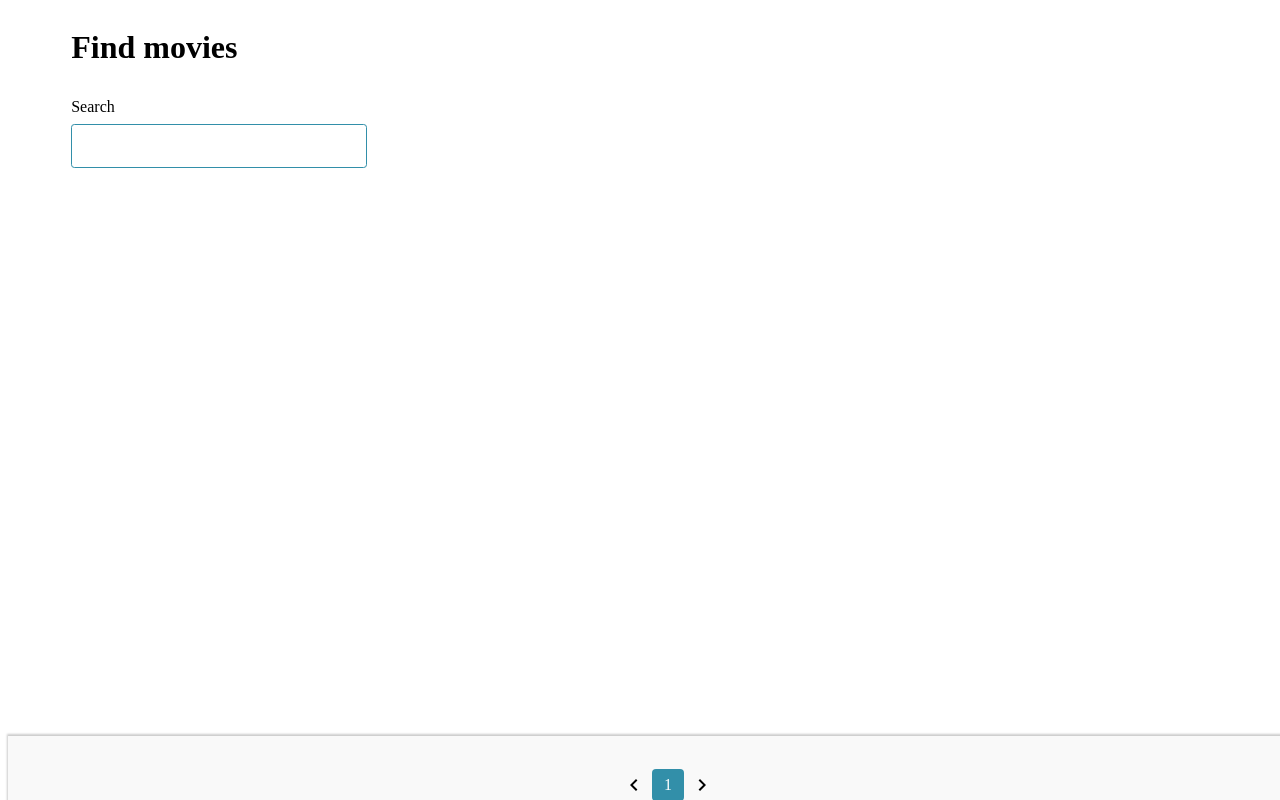
Test: Main › should show spinner after the search is changed
In the field labelled "Search": (219, 146) [71,124,366,168], type "new search"
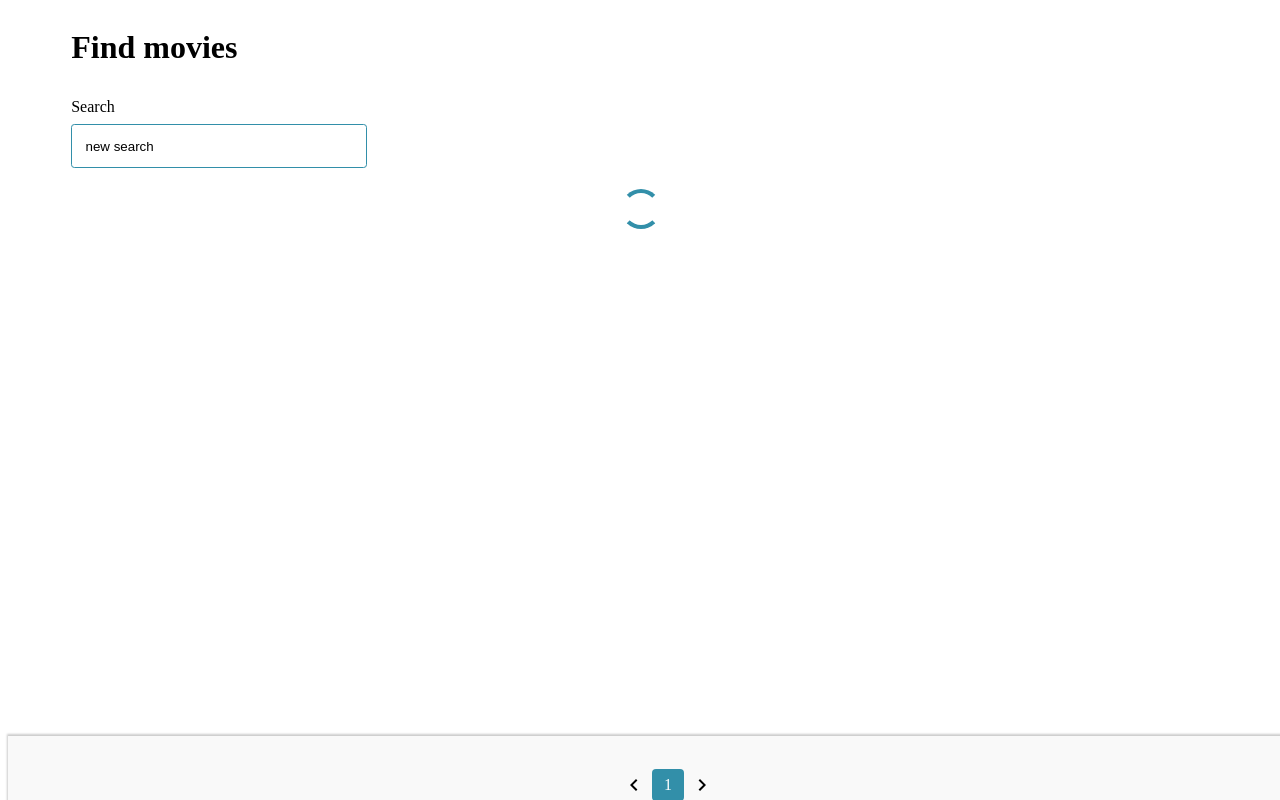
Expected: the element with test id "spinner" is shown, [616,184,664,232]
